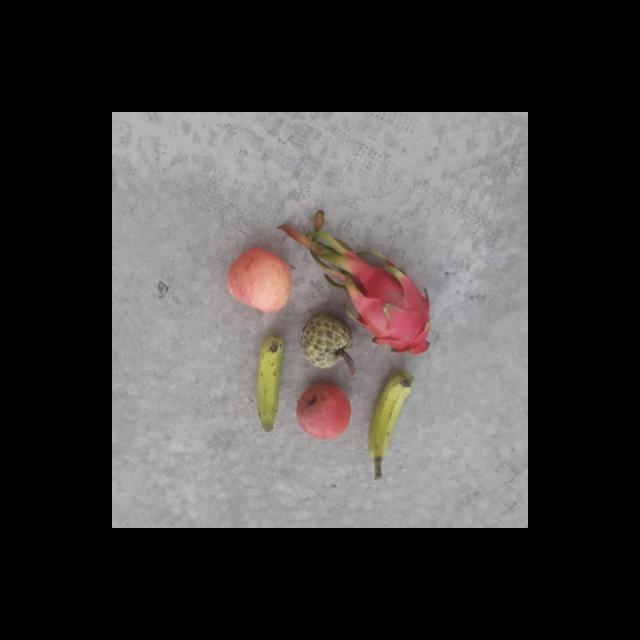Sakya fruit: (298, 309, 354, 368)
apple: (226, 248, 292, 316), (294, 381, 354, 442)
banana: (250, 332, 289, 435), (370, 371, 414, 462)
pitaya: (356, 260, 433, 356)
